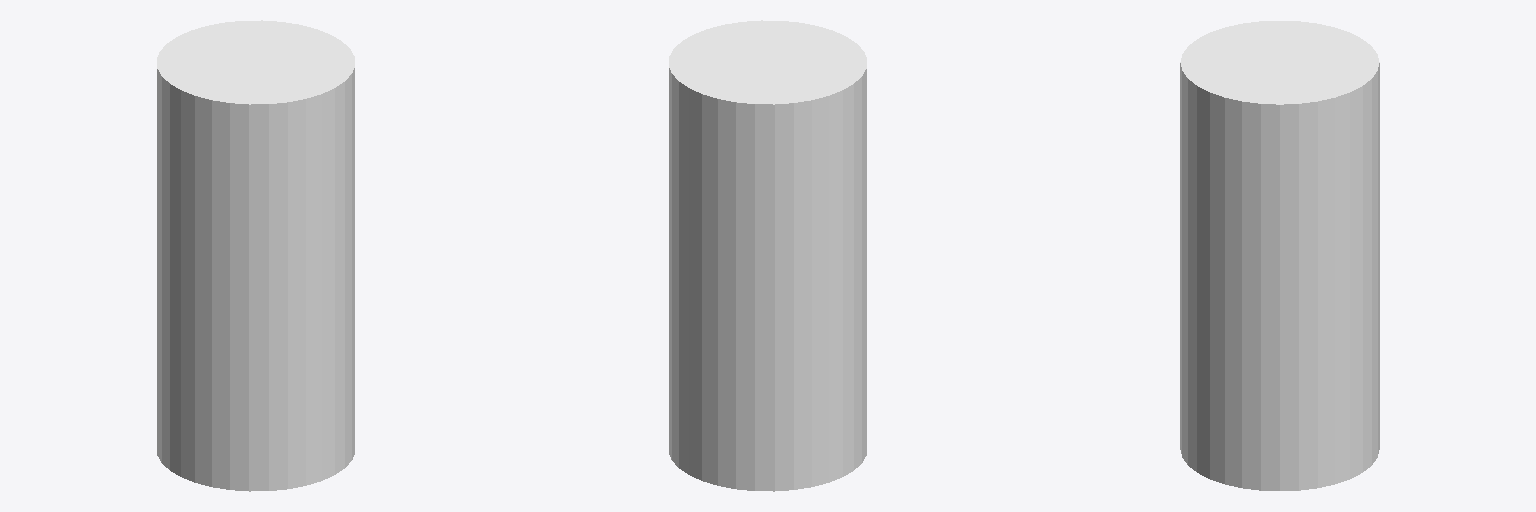
The robot description file, URDF, robot "beacon":
<?xml version="1.0"?>
<robot name="beacon">
	<material name="white">
		<color rgba="1 1 1 1"/>
	</material>
  <link name="beacon">
    <visual name = "lens">
      <geometry>
        <cylinder length="0.3" radius="0.07"/>        
      </geometry>
			<material name="white"/>
    </visual>
  </link>

</robot>

--- What the picture shows (computed from the rendered views, not written in the file) ---
Views: 3 orthographic renders of the robot side by side, from view 1: azimuth 30°, elevation 25°; view 2: azimuth 150°, elevation 25°; view 3: azimuth 270°, elevation 25°.
Model beacon with 1 links and 0 joints (none), rooted at beacon, posed all joints at 0.
Links seen in each view (by area): view 1: beacon; view 2: beacon; view 3: beacon.
Boxes of the visible links, x1=… form: beacon: x1=157, y1=20, x2=354, y2=491; beacon: x1=669, y1=20, x2=866, y2=491; beacon: x1=1180, y1=21, x2=1379, y2=490.
Size in the robot's own frame: 0.14 by 0.14 by 0.3 metres.
Geometry: primitives only (box / cylinder / sphere), no mesh files.